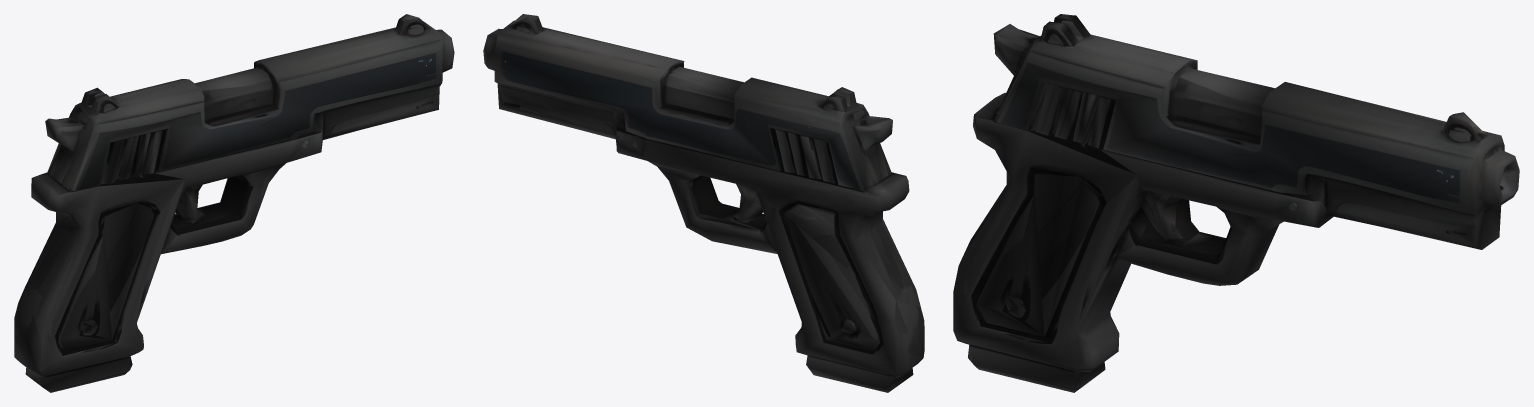
File: 手枪-zero.fbx
3 renders of one model, left to right at view 1: azimuth 30°, elevation 25°; view 2: azimuth 150°, elevation 25°; view 3: azimuth 330°, elevation 25°, orthographic. The views are drawn at different scales.
Parts seen in each view (by area): view 1: texture_pbr_v128; view 2: texture_pbr_v128; view 3: texture_pbr_v128.
Boxes of the visible parts, <box> form: texture_pbr_v128: <box>14,14,454,392</box>; texture_pbr_v128: <box>483,14,924,392</box>; texture_pbr_v128: <box>953,14,1519,392</box>.
Size of the model in its own units: 107 by 67.75 by 12.28.
1 material, 1 textured.
